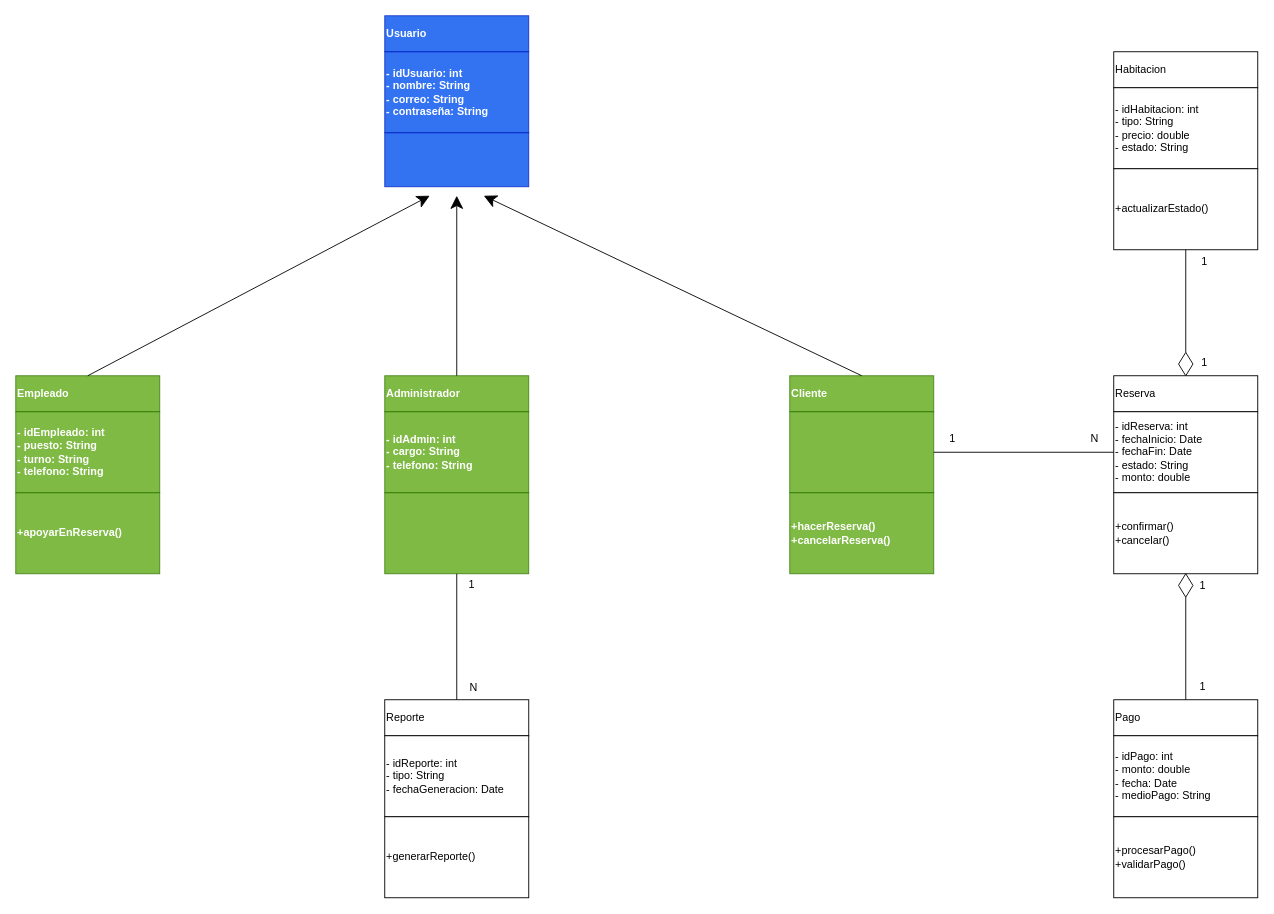
The diagram is 1274 pixels wide and 914 high, and some of its shapes have lost their labels. Here are the shapes that lost their labels. From the top down, the centre of each, then its label:
point 456,159: +iniciarSesion() +cerrarSesion()
point 861,452: - telefono: String - direccion: String - fechaRegistro: Date
point 456,533: +gestionarPrecios() +verReporte()
